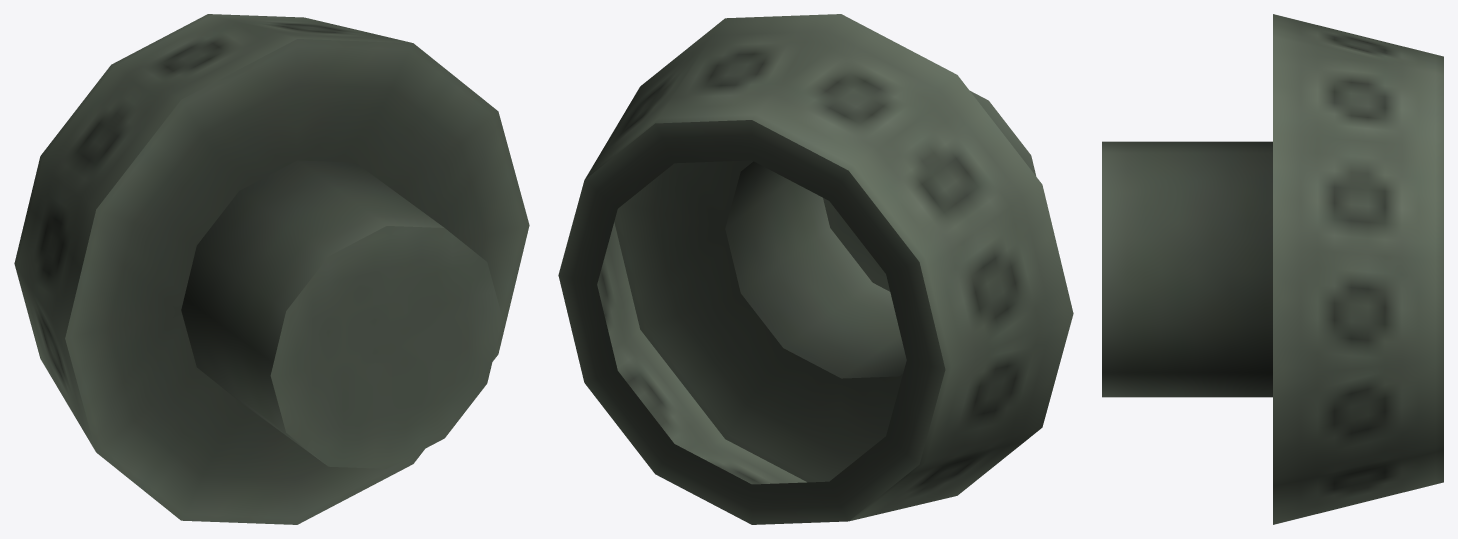
Rendered from octans_periscope_srf_1_base.obj.
3 renders of one model, left to right at view 1: azimuth 30°, elevation 25°; view 2: azimuth 150°, elevation 25°; view 3: azimuth 270°, elevation 25°, orthographic. The views are drawn at different scales.
Visible parts, largest first — view 1: mesh; view 2: mesh; view 3: mesh.
Part boxes in pixels (left/top/right/bottom): mesh: left=14, top=14, right=529, bottom=524; mesh: left=558, top=14, right=1073, bottom=524; mesh: left=1102, top=14, right=1443, bottom=524.
Bounding box in the file's own units: 0.15 × 0.15 × 0.1.
1 material, 1 textured.
